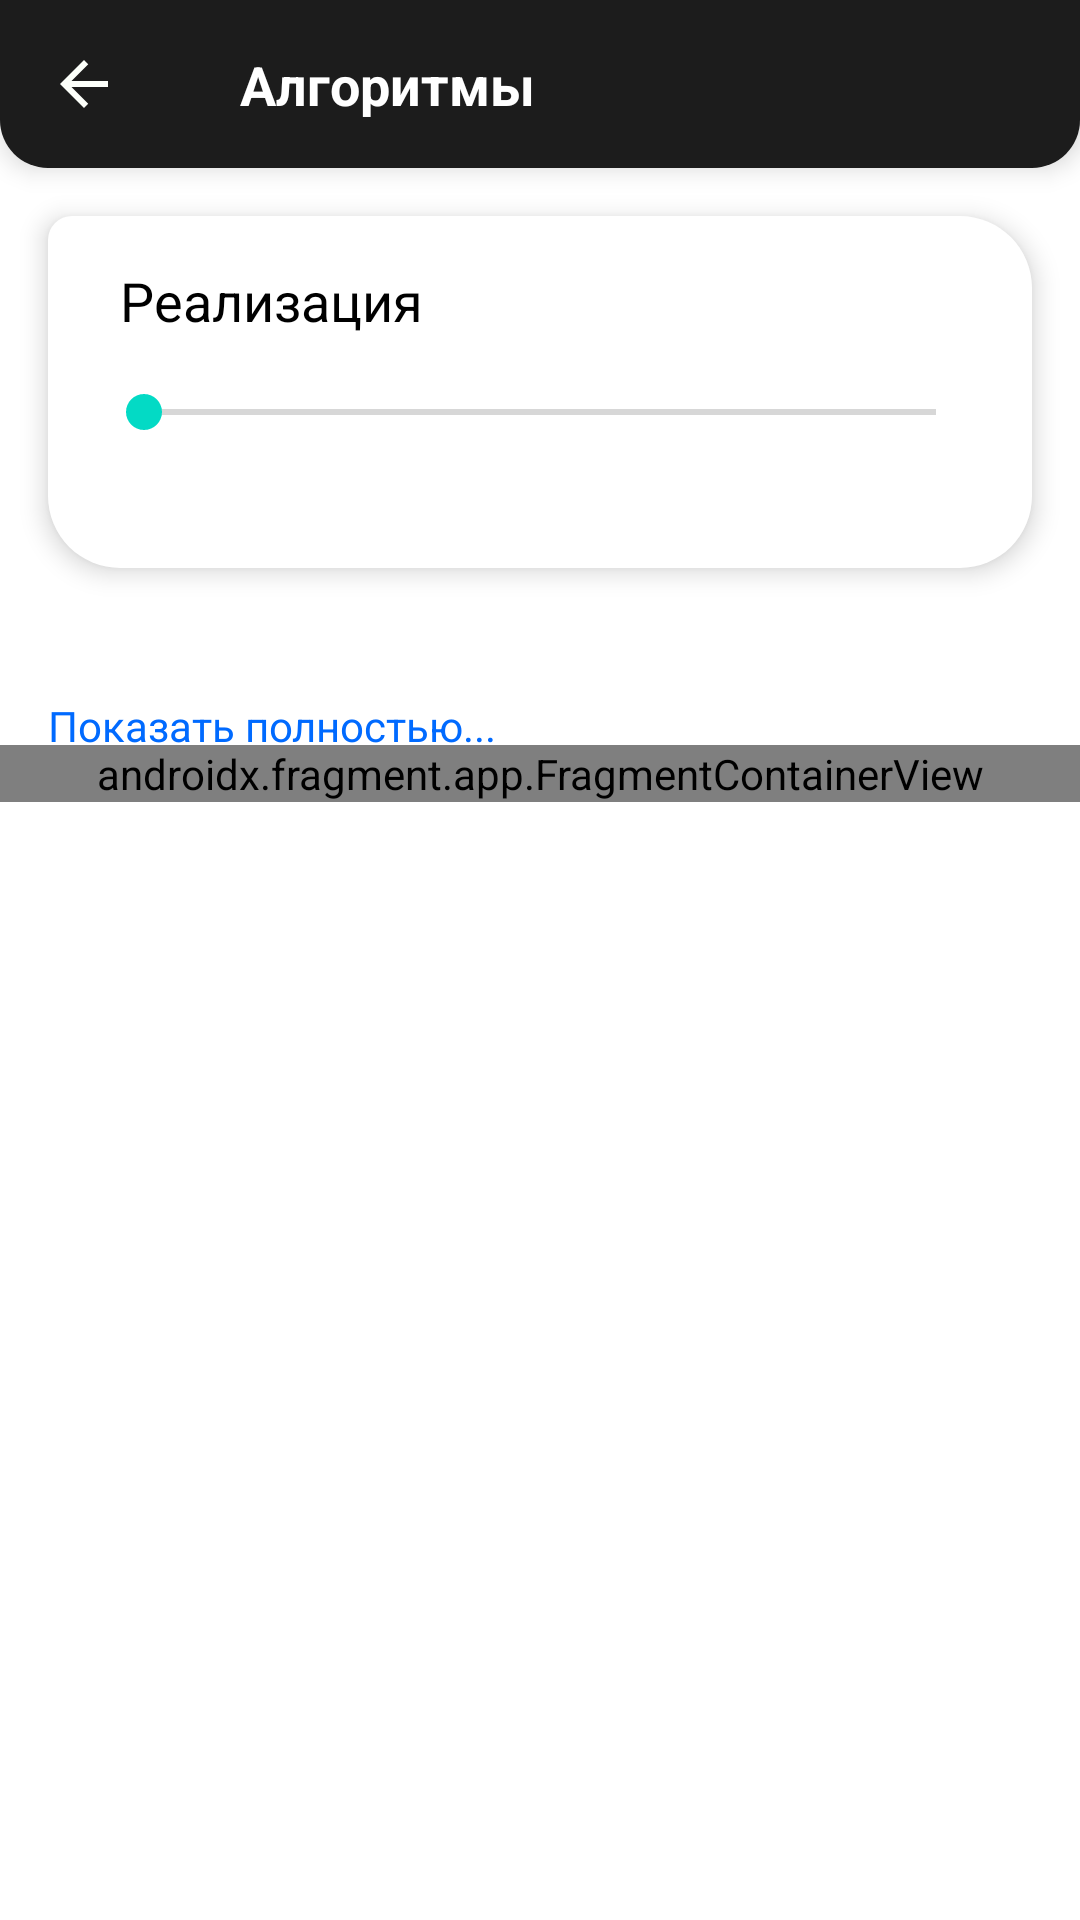

Icon click points for this 1080 x 1920 phone screenshot, format [x,y]:
back: [84,84]
